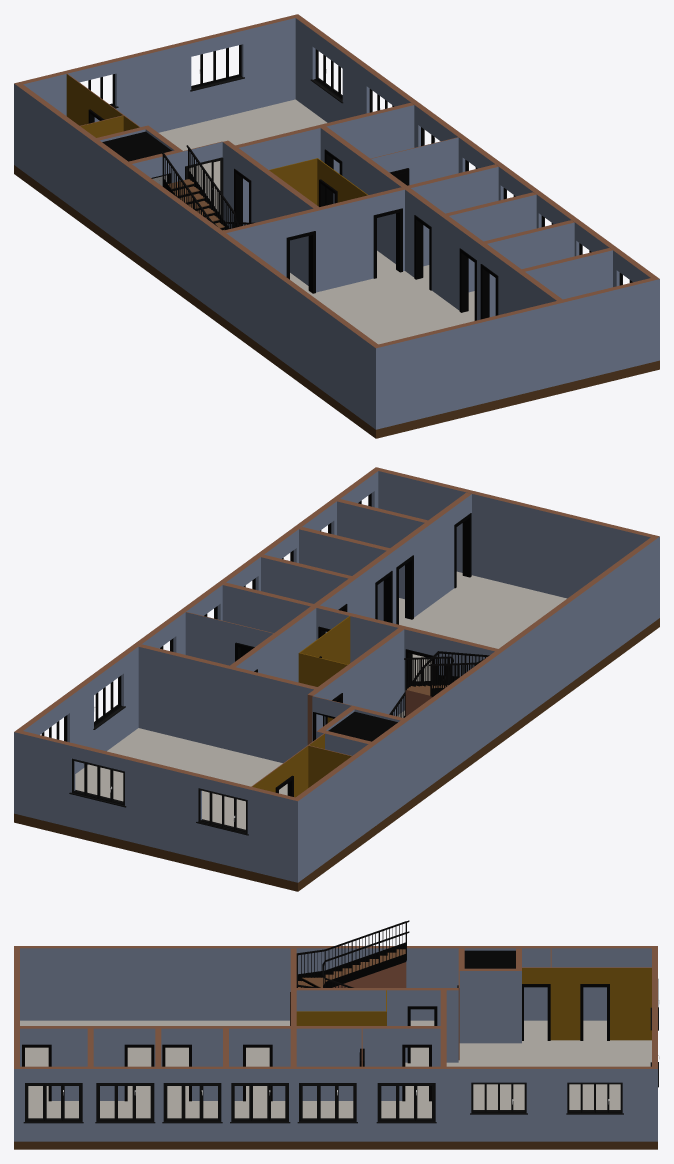
The model's file is Floor1.gltf.
3 renders of one model, top to bottom at view 1: azimuth 30°, elevation 25°; view 2: azimuth 150°, elevation 25°; view 3: azimuth 270°, elevation 25°, orthographic. The views are drawn at different scales.
Parts seen in each view (by area): view 1: Wall, Slab, Wall.001, Wall.002, Wall.007, Wall.006, Wall.008, Wall.004, Wall.005, Wall.003, Stair, Wall.013 (+12 smaller); view 2: Wall, Slab, Wall.007, Wall.002, Wall.001, Wall.006, Wall.008, Wall.004, Wall.003, Stair, Wall.013, Wall.005 (+8 smaller); view 3: Wall, Slab, Wall.002, Wall.012, Wall.008, Wall.010, Wall.006, Stair, Wall.009, Slab.001, Wall.001, Wall.007 (+11 smaller).
Boxes of the visible parts, x1,y1,x2,y2 form: Wall: (14,14,659,429); Slab: (14,99,659,438); Wall.001: (223,164,498,292); Wall.002: (405,188,562,320); Wall.007: (235,102,414,225); Wall.006: (222,140,319,285); Wall.008: (320,126,406,263); Wall.004: (484,220,574,316); Wall.005: (446,192,536,292); Wall.003: (522,248,612,299); Stair: (161,145,254,230); Wall.013: (370,137,458,184); Wall: (14,467,659,882); Slab: (14,571,659,891); Wall.007: (138,644,317,762); Wall.002: (314,492,471,632); Wall.001: (222,582,497,710); Wall.006: (307,628,404,744); Wall.008: (230,606,316,682); Wall.004: (299,527,389,620); Wall.003: (337,499,427,599); Stair: (389,651,489,717); Wall.013: (185,612,273,665); Wall.005: (261,554,351,603); Wall: (14,946,657,1141); Slab: (14,1020,657,1149); Wall.002: (20,1026,290,1100); Wall.012: (522,967,651,1040); Wall.008: (296,1026,440,1100); Wall.010: (458,948,521,1043); Wall.006: (296,988,458,1062); Stair: (296,920,409,987); Wall.009: (296,990,386,1025); Slab.001: (464,950,515,968); Wall.001: (290,948,296,1066); Wall.007: (440,990,446,1066).
Size of the model in its own units: 9.89 by 4.07 by 21.81.
